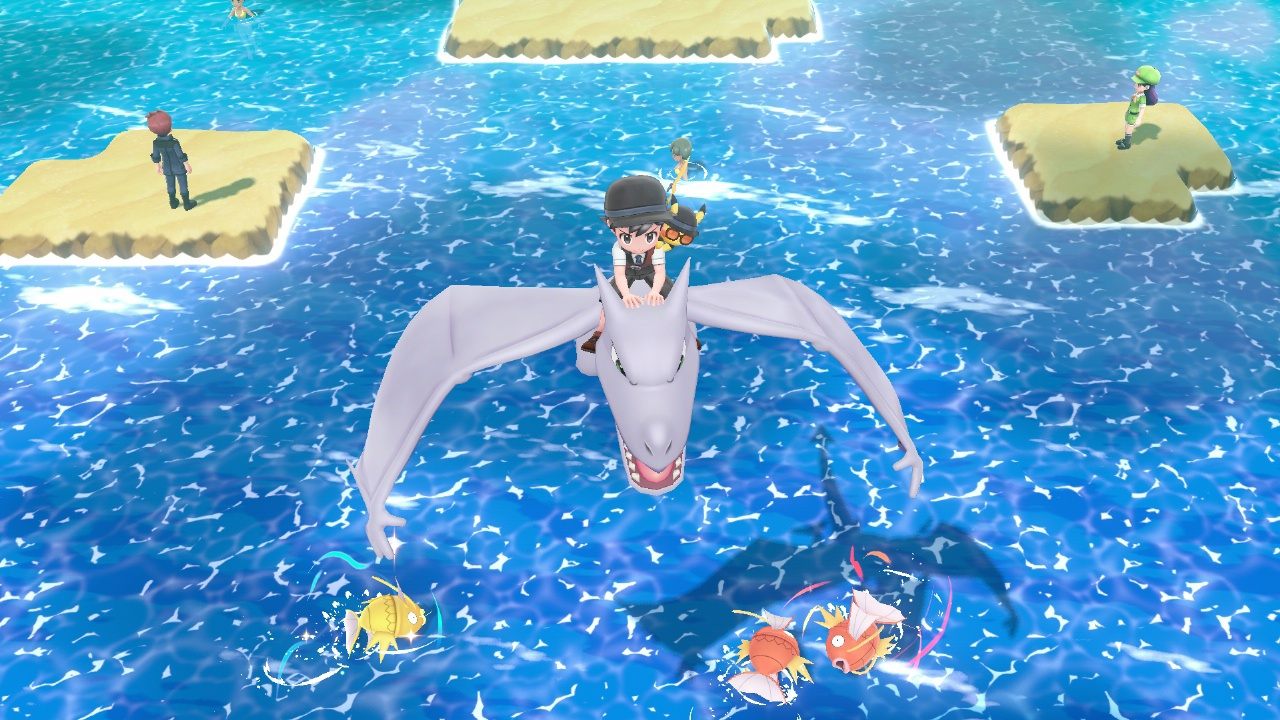Golden: (343, 585, 430, 654)
